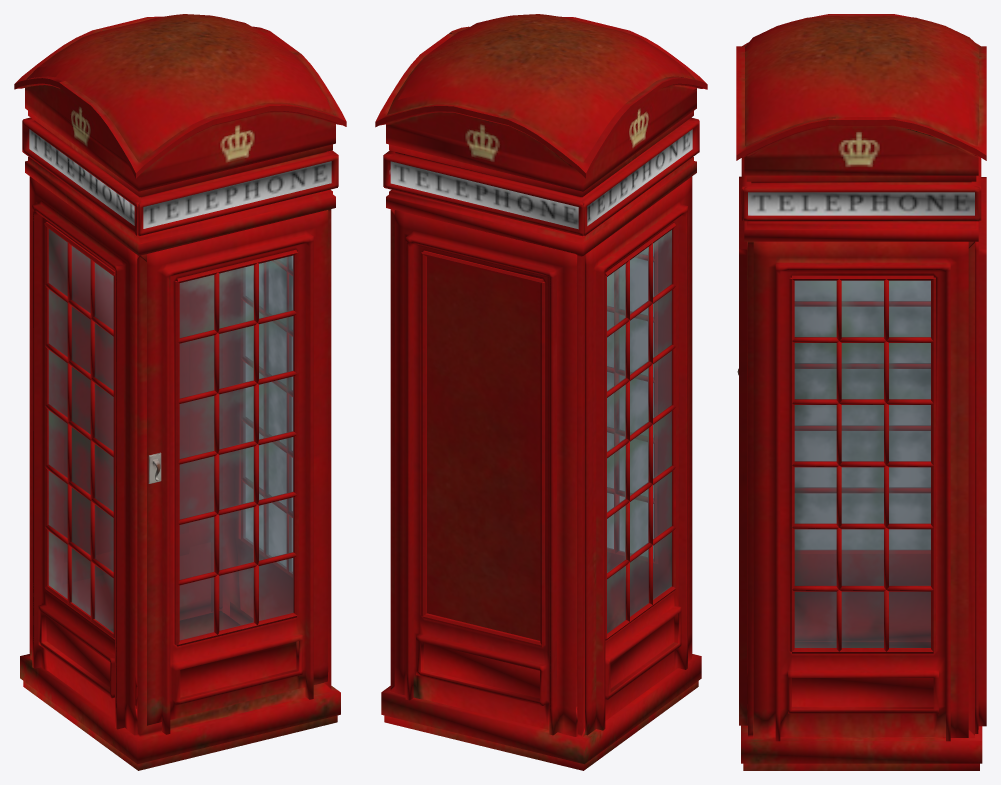
Rendered from phonebox.glb.
The picture shows the model from 3 angles, left to right: view 1: azimuth 30°, elevation 25°; view 2: azimuth 150°, elevation 25°; view 3: azimuth 270°, elevation 25°; orthographic projection. The views are drawn at different scales.
Visible parts, largest first — view 1: phonebox; view 2: phonebox; view 3: phonebox.
Part boxes in pixels (bbox=[...]): phonebox: bbox=[14, 14, 346, 770]; phonebox: bbox=[375, 14, 707, 770]; phonebox: bbox=[736, 14, 986, 770].
Bounding box in the file's own units: 0.6654 × 2 × 0.6654.
Materials: 3 (3 with a texture image).
